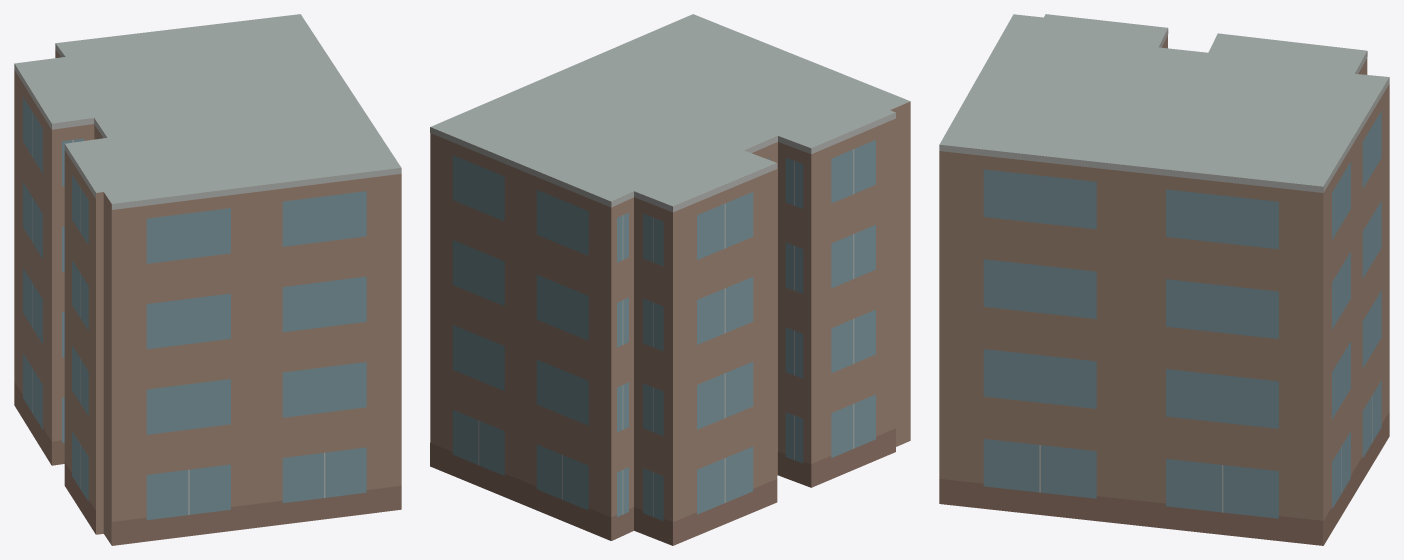
File: survey-upis-32828595.glb
3 renders of one model, left to right at view 1: azimuth 30°, elevation 25°; view 2: azimuth 150°, elevation 25°; view 3: azimuth 270°, elevation 25°, orthographic. The views are drawn at different scales.
Visible parts, largest first — view 1: survey-upis-32828595.tmp; view 2: survey-upis-32828595.tmp; view 3: survey-upis-32828595.tmp.
Boxes of the visible parts, bbox=[...] form: survey-upis-32828595.tmp: bbox=[14, 14, 401, 545]; survey-upis-32828595.tmp: bbox=[430, 14, 910, 545]; survey-upis-32828595.tmp: bbox=[939, 14, 1389, 545].
Size of the model in its own units: 14.34 by 13.9 by 15.8.
